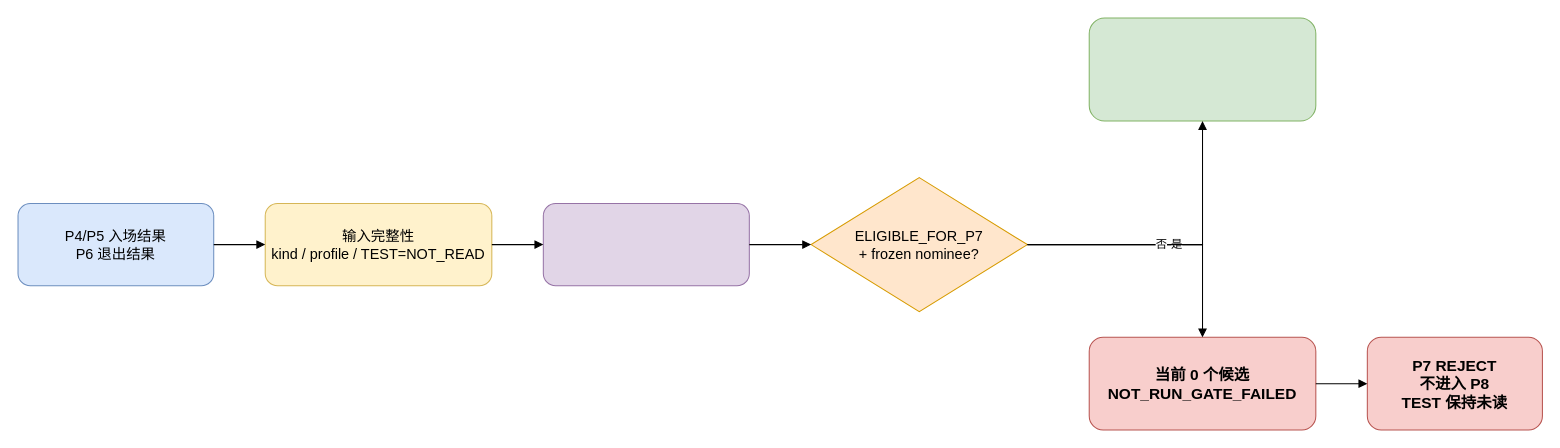
Some shapes in this 1560 by 448 pixel diagram are drawn without their labels. The centre of each missing label's shape, as x and y in pixels:
"Eligibility Matrix 每 profile 6 行" goes at (x=645, y=244).
"组合 grid nested walk-forward 消融 + 四成本 + 统计" goes at (x=1202, y=69).
